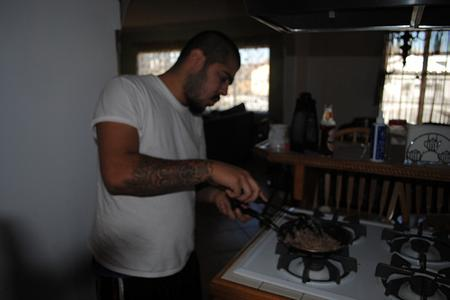person: (91, 36, 270, 298)
